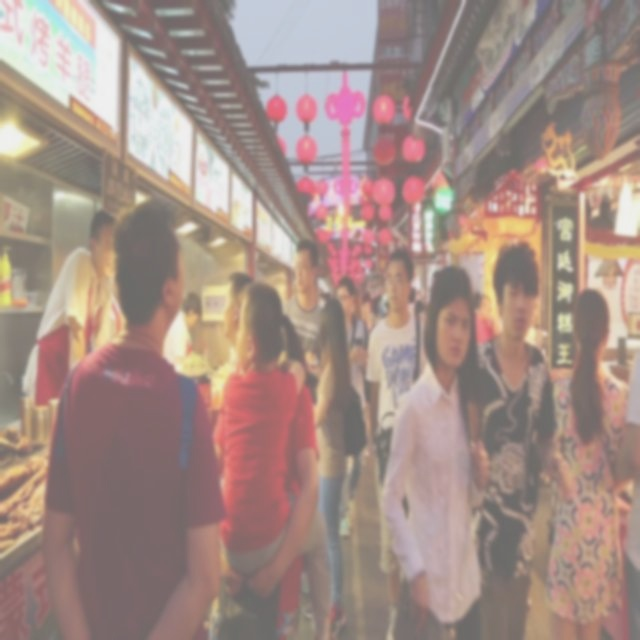pessoa: (38, 189, 228, 639), (462, 234, 575, 638), (380, 261, 493, 639), (217, 281, 334, 639), (214, 282, 328, 638), (548, 285, 632, 639), (364, 244, 430, 639), (301, 294, 368, 638), (20, 208, 119, 406), (610, 325, 640, 640), (334, 274, 369, 540), (282, 236, 324, 403), (220, 268, 254, 376), (162, 290, 204, 374), (105, 273, 126, 351), (473, 286, 500, 346), (360, 290, 378, 338), (313, 270, 332, 310), (410, 286, 430, 322), (370, 292, 390, 326), (428, 265, 441, 291)
